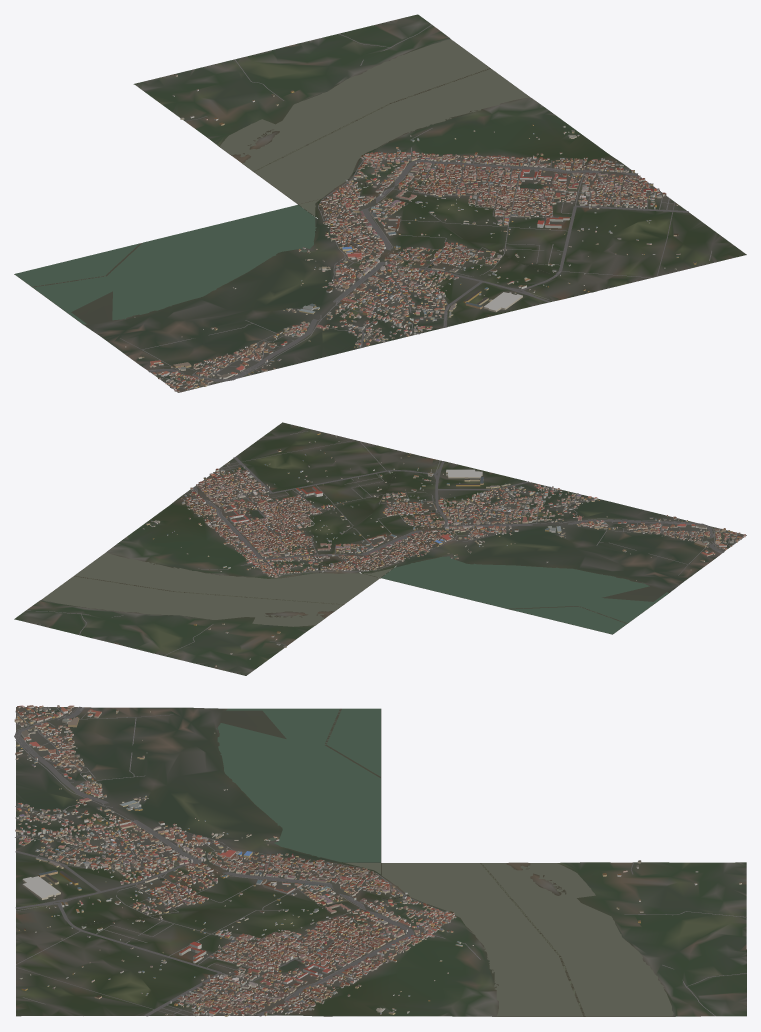
3 views of the same model, one above another, from view 1: azimuth 30°, elevation 25°; view 2: azimuth 150°, elevation 25°; view 3: azimuth 270°, elevation 25° (orthographic). The views are drawn at different scales.
Parts seen in each view (by area): view 1: ground, water, buildings, roads; view 2: ground, water, buildings, roads; view 3: ground, water, buildings, roads.
Boxes of the visible parts, x1,y1,x2,y2 form: ground: (14, 14, 746, 392); water: (15, 39, 593, 324); buildings: (125, 74, 696, 392); roads: (120, 24, 711, 390); ground: (14, 422, 746, 675); water: (42, 452, 668, 634); buildings: (142, 432, 745, 666); roads: (25, 431, 737, 655); ground: (16, 707, 746, 1016); water: (16, 708, 673, 1016); buildings: (14, 705, 741, 1016); roads: (14, 706, 746, 1016).
Bounding box in the file's own units: 2812 × 31.06 × 2812.
